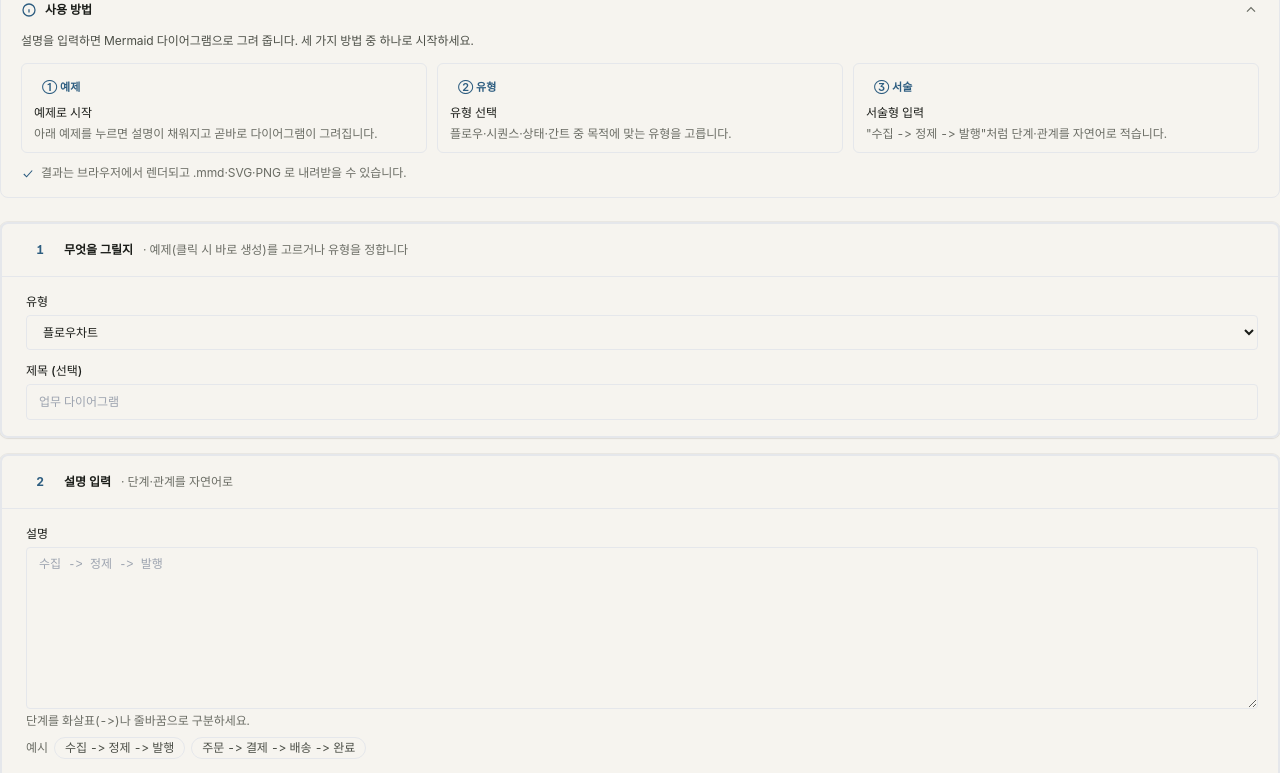
it: shows an error message when generation fails
This screenshot has width=1280, height=773.
Type "A -> B" into the text box with placeholder "수집 -> 정제 -> 발행" at (642, 628), box [26,547,1258,709]
(page scrolled)
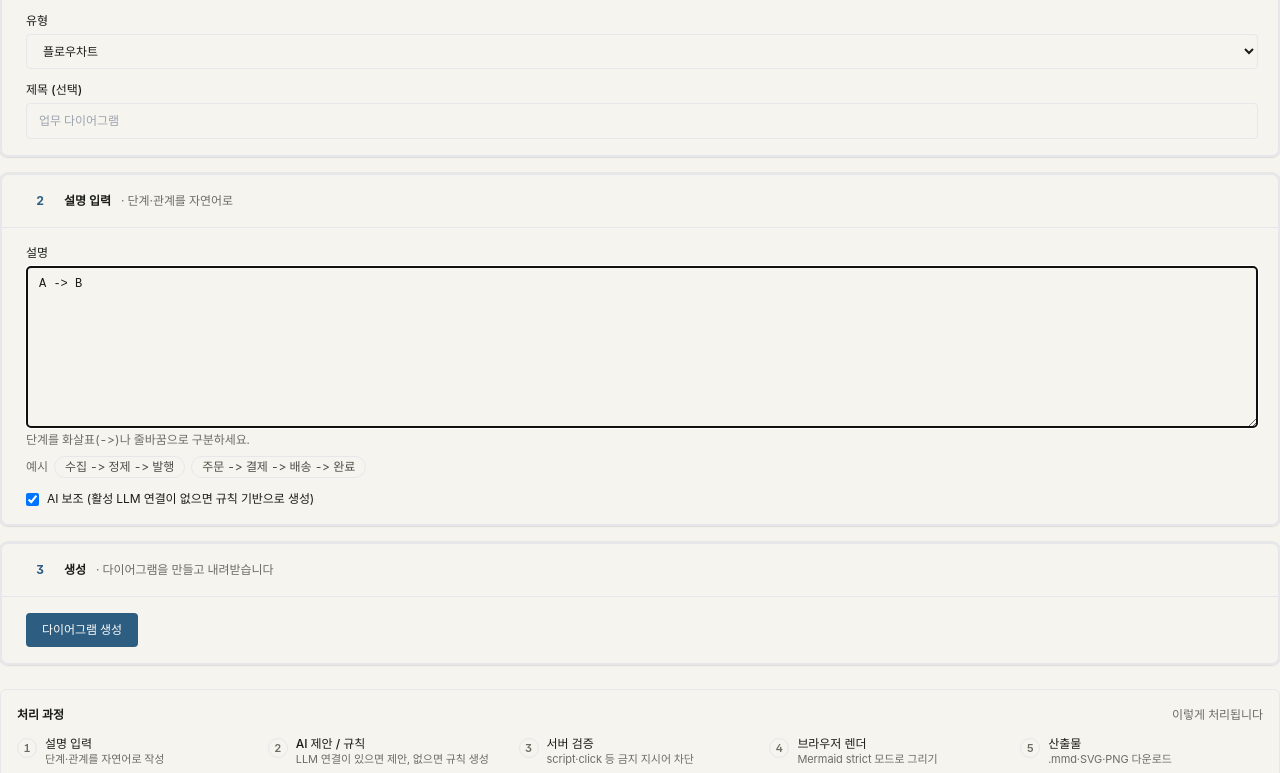
Click the button "다이어그램 생성" at (82, 630), box [26,613,138,647]
(page scrolled)
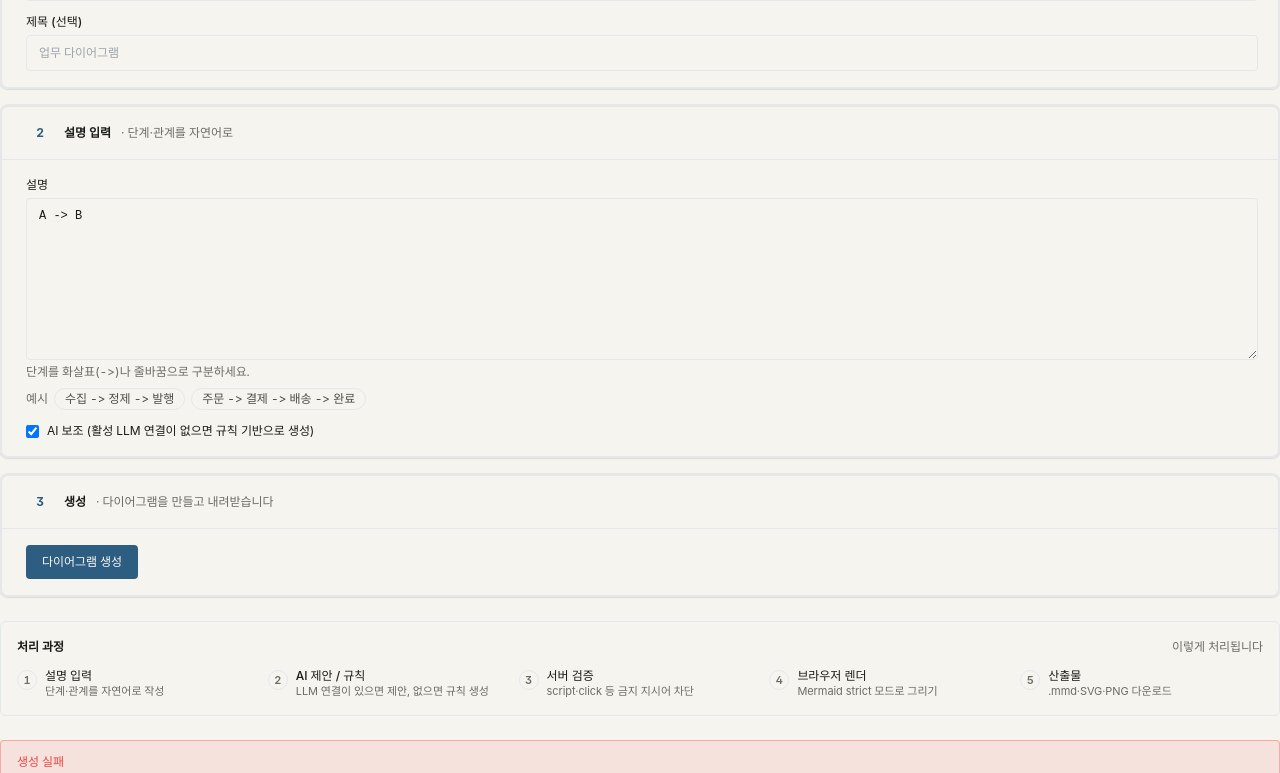
Expected: the message reads "생성 실패", [17,754,64,769]
